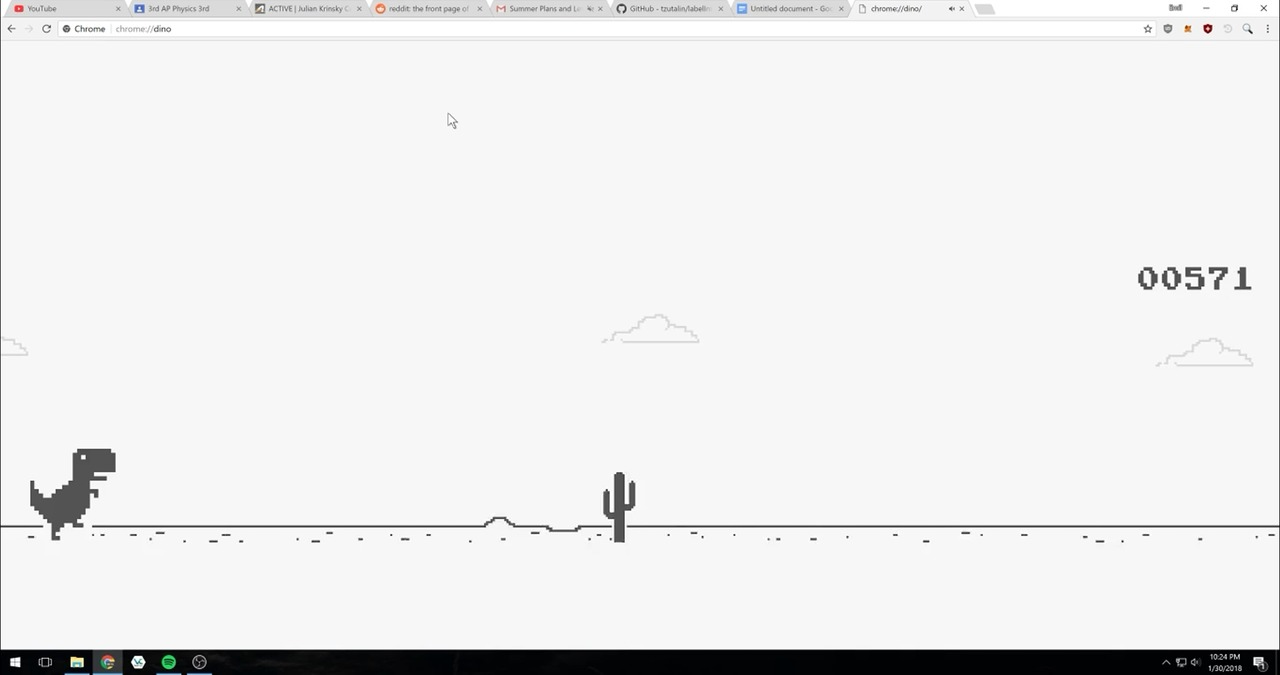cactus: (600, 472, 641, 543)
dinosaur: (28, 445, 118, 541)
